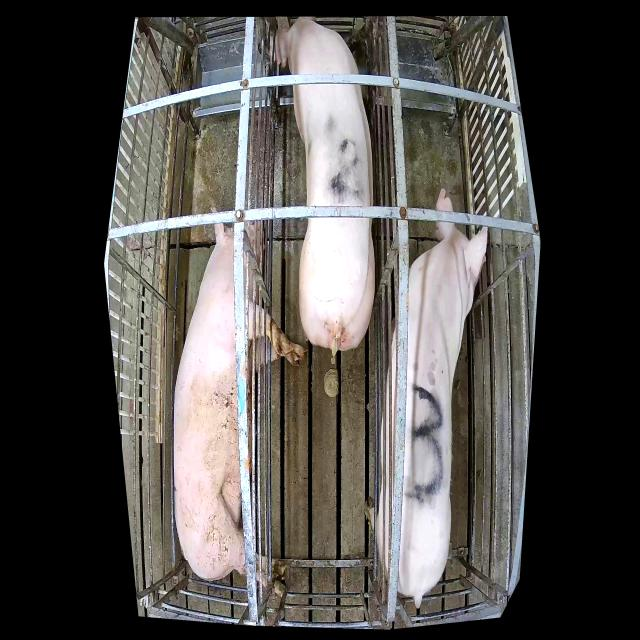pig: (174, 207, 308, 601), (363, 188, 488, 609), (274, 17, 375, 351)
